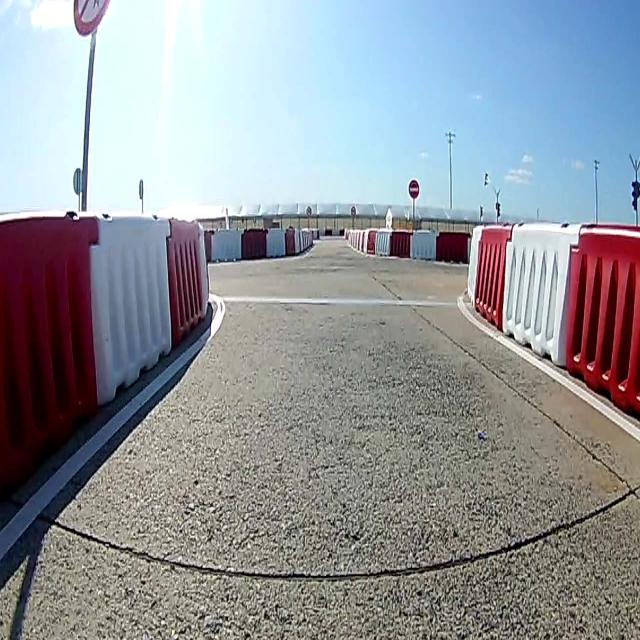girisyok: (408, 179, 419, 199)
